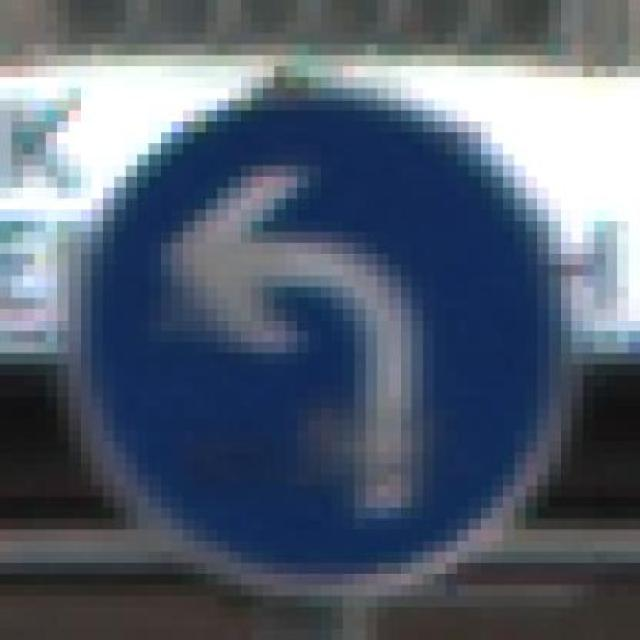Turn left ahead: (57, 66, 583, 596)
